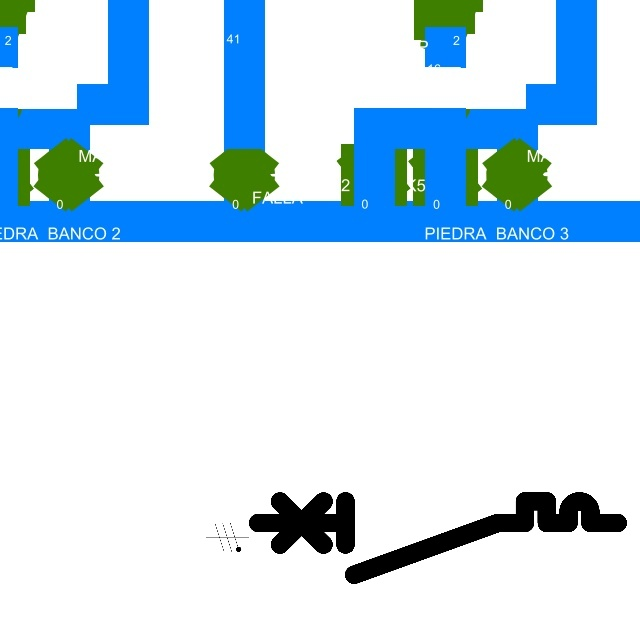interruptor_termomagnetico: (248, 492, 626, 584)
